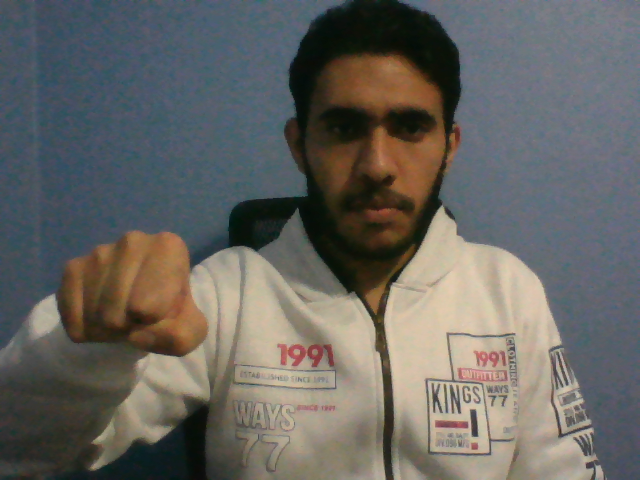yes: (52, 225, 213, 361)
